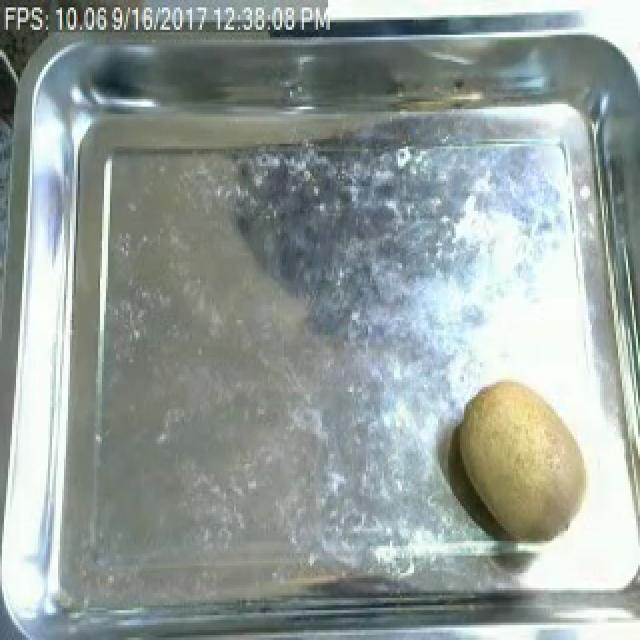Fruit: (448, 372, 602, 548)
